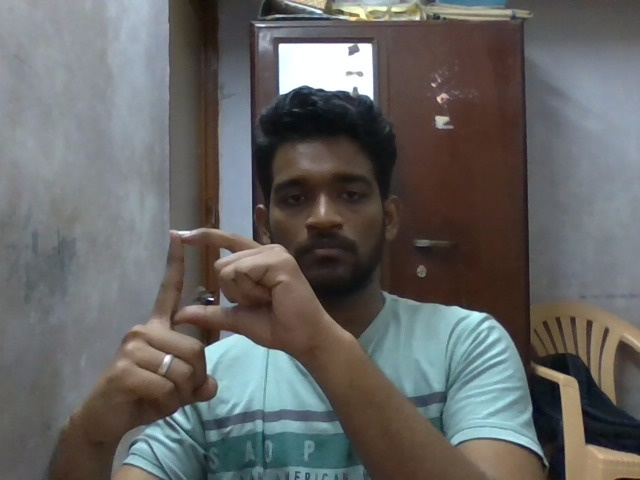D: (87, 222, 327, 447)
